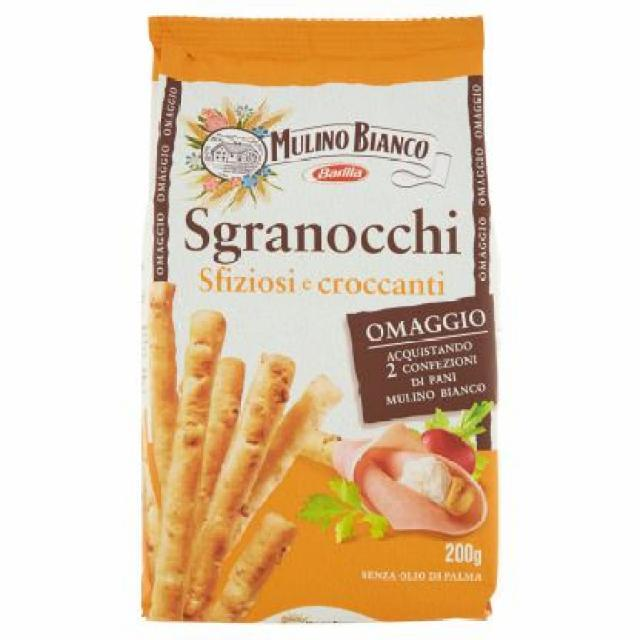Grissini: (163, 304, 300, 614)
